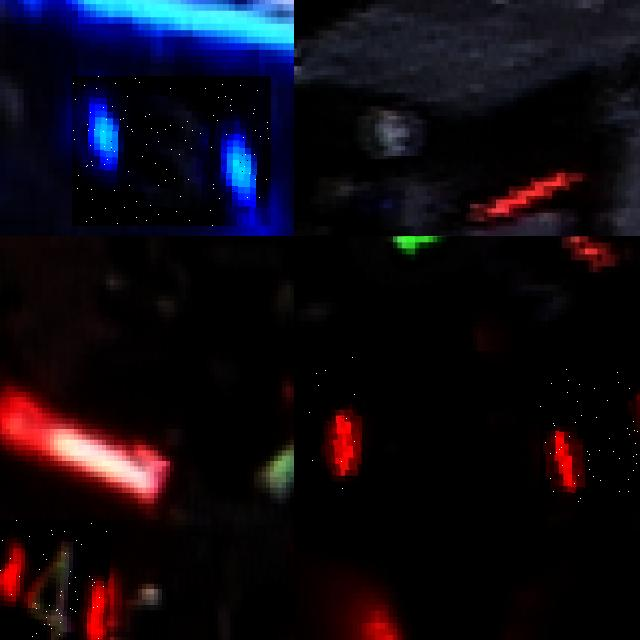B3: (72, 76, 271, 226)
R3: (539, 369, 640, 502), (294, 357, 361, 490)
R4: (0, 519, 110, 640)
